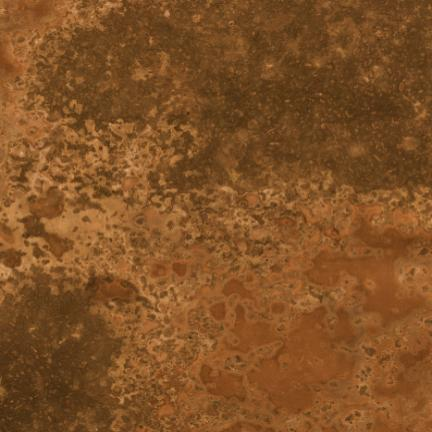karat: (0, 0, 431, 431), (28, 0, 431, 189)
